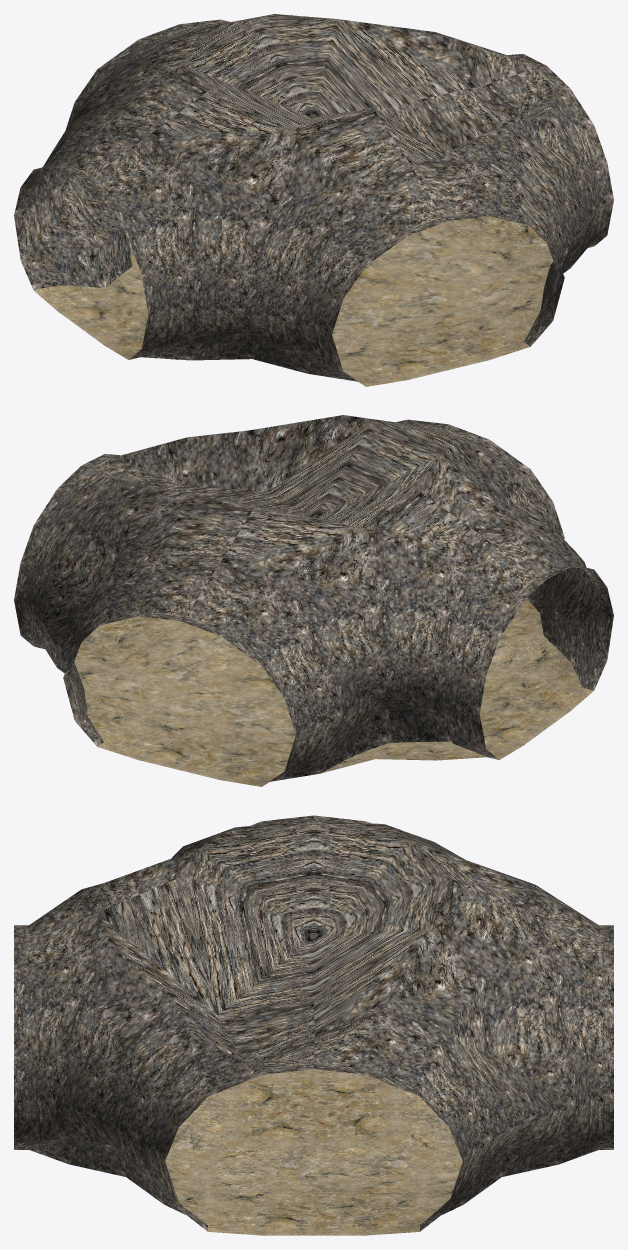
The model's file is pir_m_are_cav_fourway200.fbx.
The picture shows the model from 3 angles, top to bottom: view 1: azimuth 30°, elevation 25°; view 2: azimuth 150°, elevation 25°; view 3: azimuth 270°, elevation 25°; orthographic projection. The views are drawn at different scales.
Visible parts, largest first — view 1: fourway200_wall, fourway200_floor; view 2: fourway200_wall, fourway200_floor; view 3: fourway200_wall, fourway200_floor.
Boxes of the visible parts, left/top/right/bottom form: fourway200_wall: left=14, top=14, right=613, bottom=384; fourway200_floor: left=34, top=216, right=553, bottom=386; fourway200_wall: left=14, top=415, right=613, bottom=784; fourway200_floor: left=74, top=598, right=593, bottom=786; fourway200_wall: left=14, top=815, right=613, bottom=1231; fourway200_floor: left=165, top=1069, right=462, bottom=1235.
Size of the model in its own units: 20000 by 8705 by 20000.
Materials: 2 (2 with a texture image).
